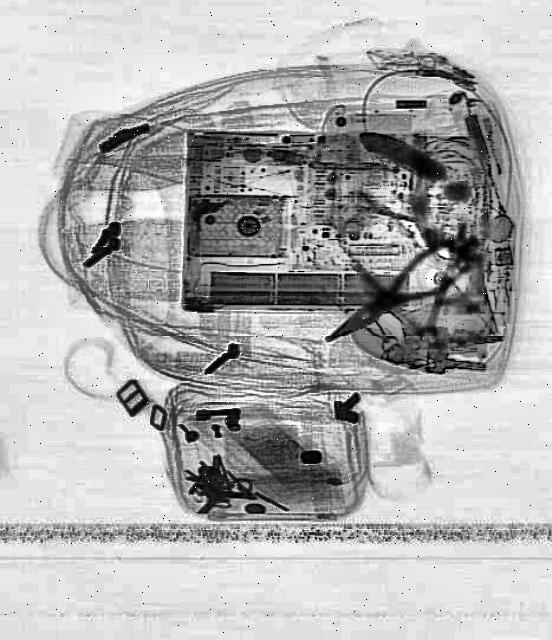Pliers: (312, 234, 472, 364)
